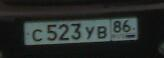license-plateSW: (24, 17, 139, 46)
